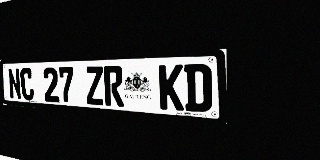2: (43, 67, 59, 102)
7: (58, 67, 75, 103)
C: (20, 68, 35, 101)
D: (184, 64, 212, 113)
K: (158, 64, 184, 111)
N: (8, 68, 22, 100)
R: (103, 66, 124, 107)
Z: (85, 66, 104, 105)
